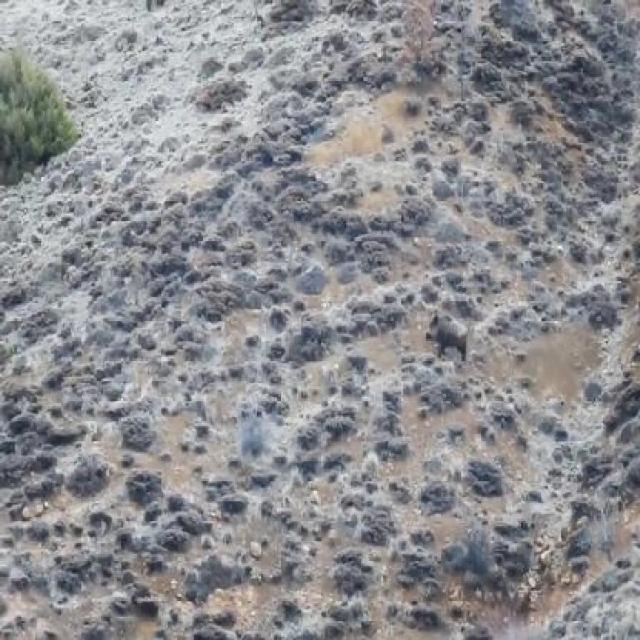pig: (414, 280, 484, 374)
